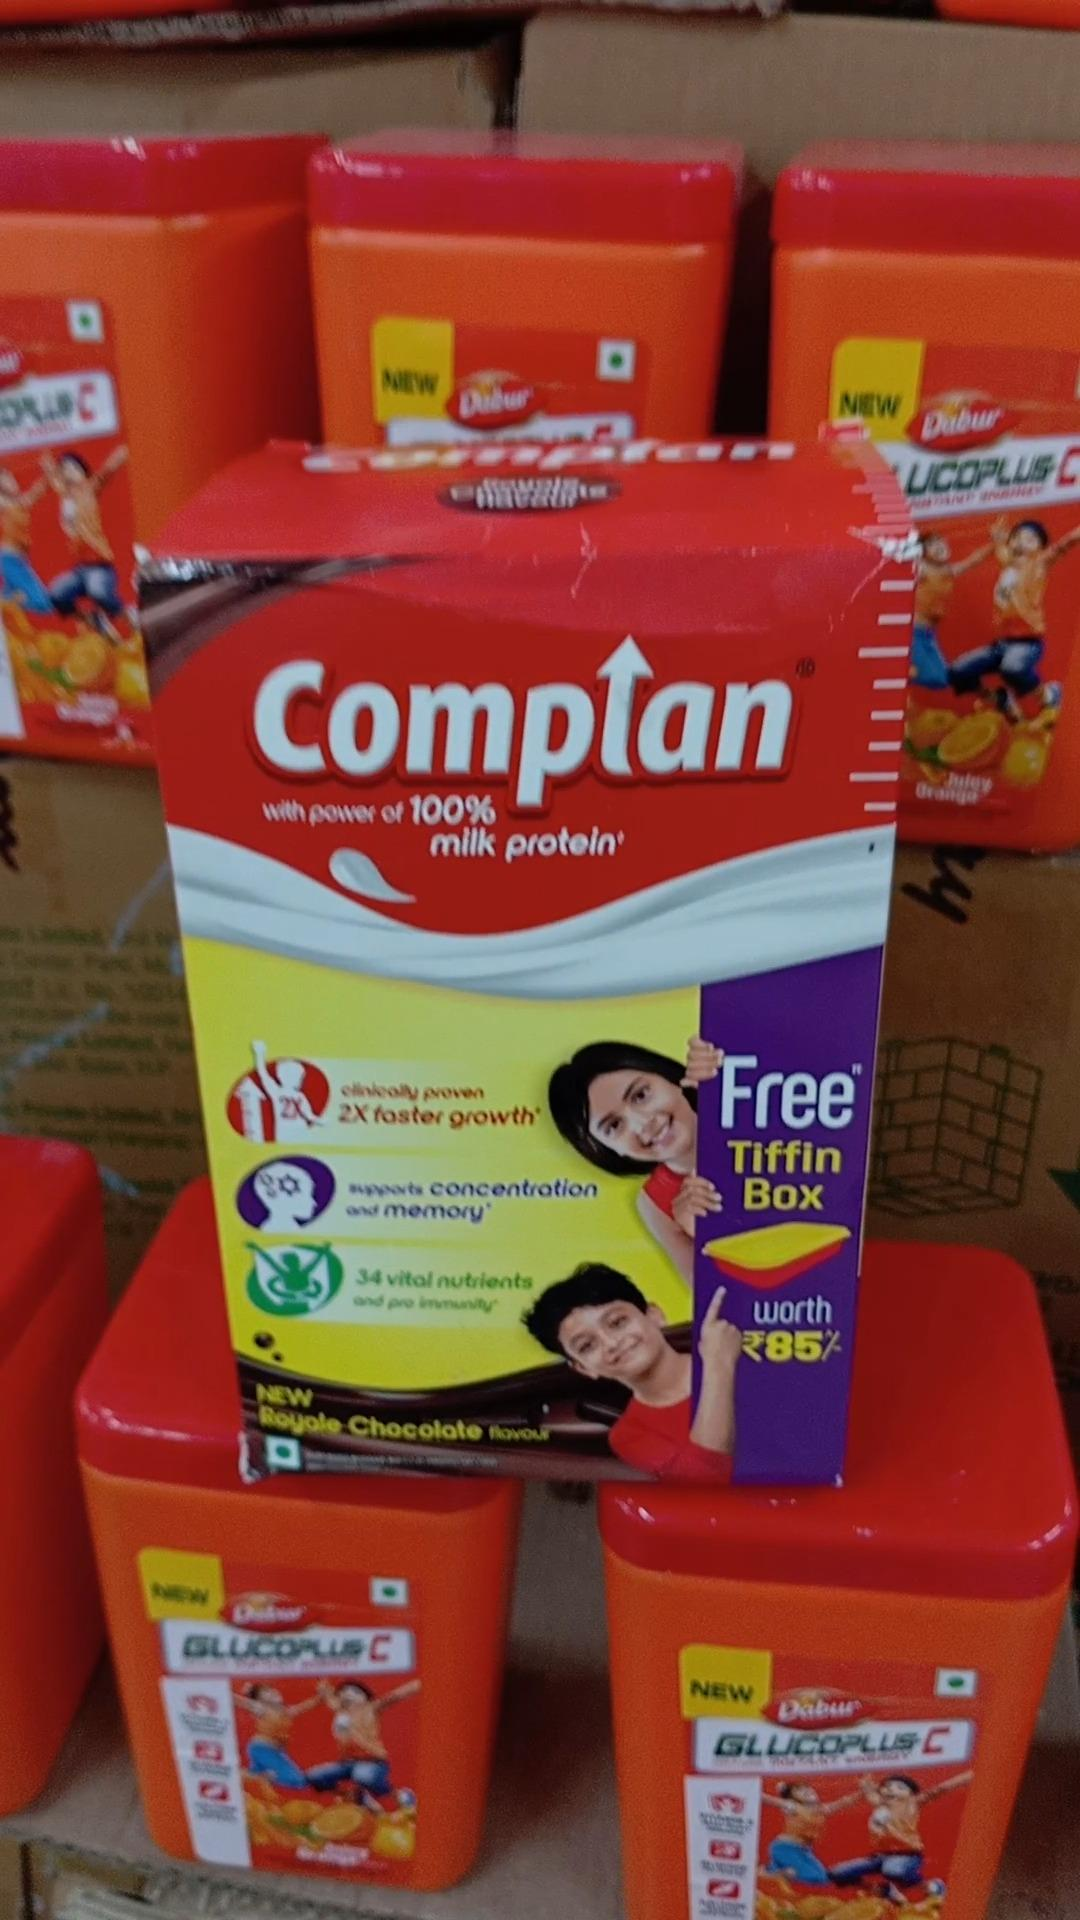COMPLAN_CHOCOLATE_500_GMS_PACK: (194, 564, 866, 1509)
